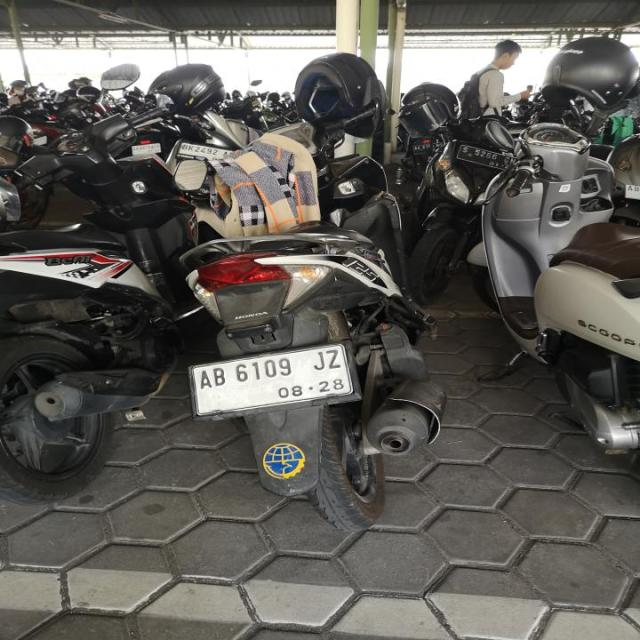License Plate: (187, 339, 356, 424), (455, 143, 517, 171), (174, 139, 236, 161)
